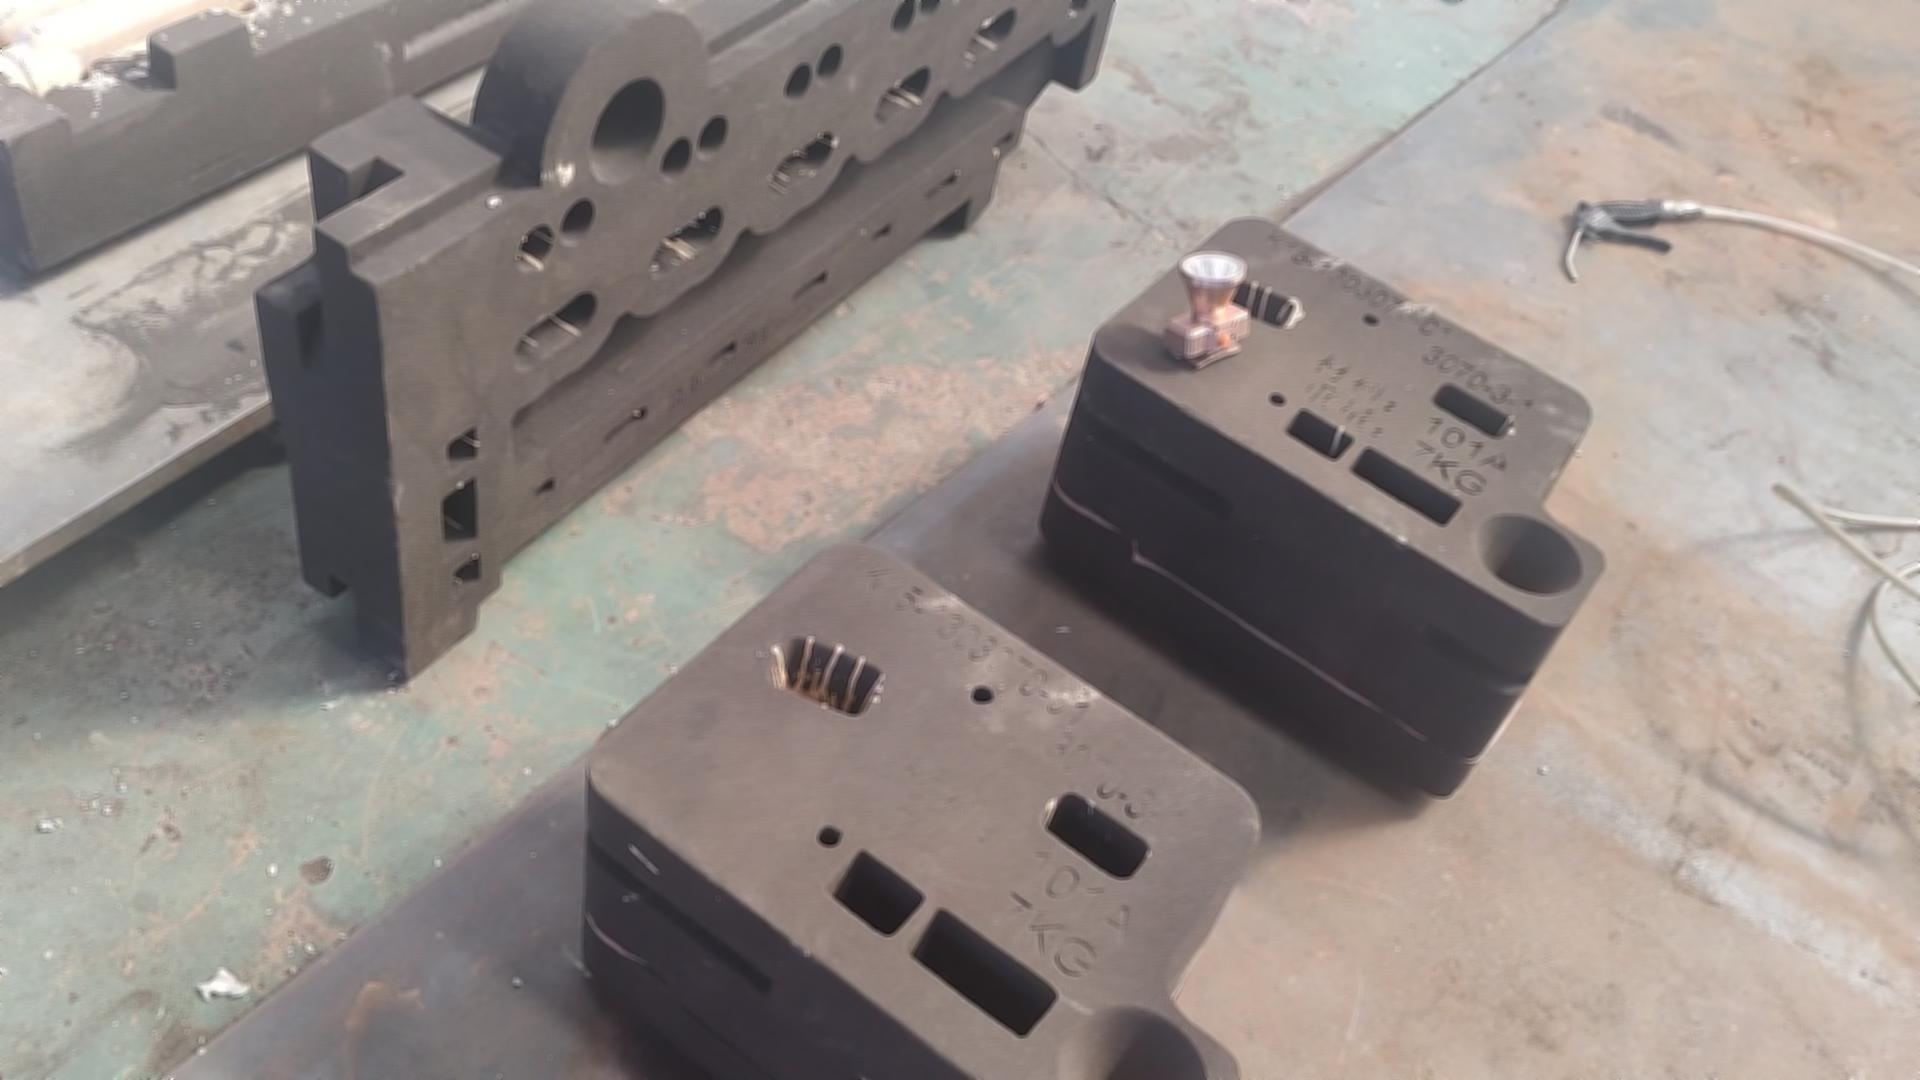pouring hole: (1058, 1004, 1213, 1080), (1477, 514, 1584, 593), (588, 76, 667, 182)
